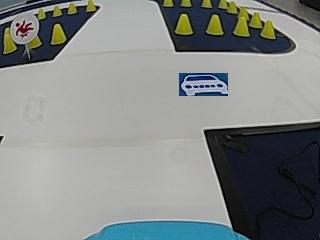cone: (206, 13, 224, 35), (175, 13, 192, 35), (234, 14, 249, 37), (260, 19, 276, 39), (50, 23, 65, 44), (2, 30, 15, 54), (249, 11, 262, 28), (227, 0, 237, 14), (86, 0, 96, 12), (52, 5, 62, 17), (68, 2, 77, 15), (37, 8, 46, 20), (201, 0, 212, 8), (162, 0, 173, 7), (180, 0, 191, 7)
tumble: (11, 15, 38, 41)
